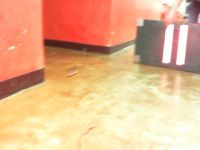switch: (161, 23, 175, 64), (176, 25, 189, 65)
